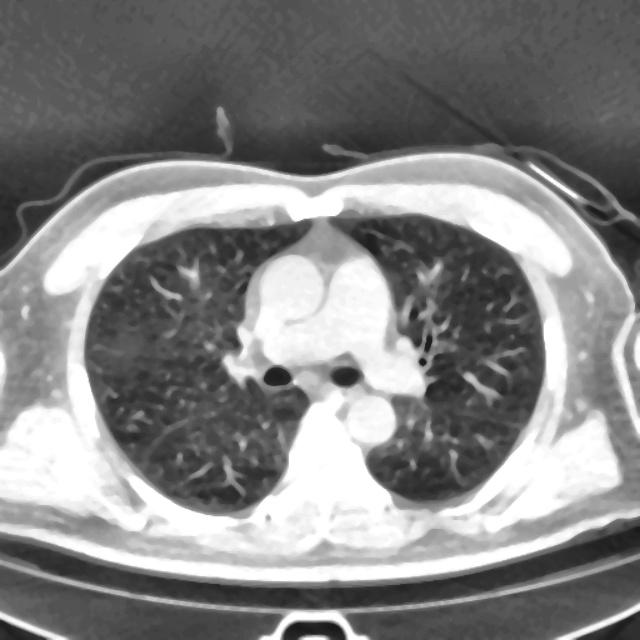covid: (1, 138, 638, 589)
